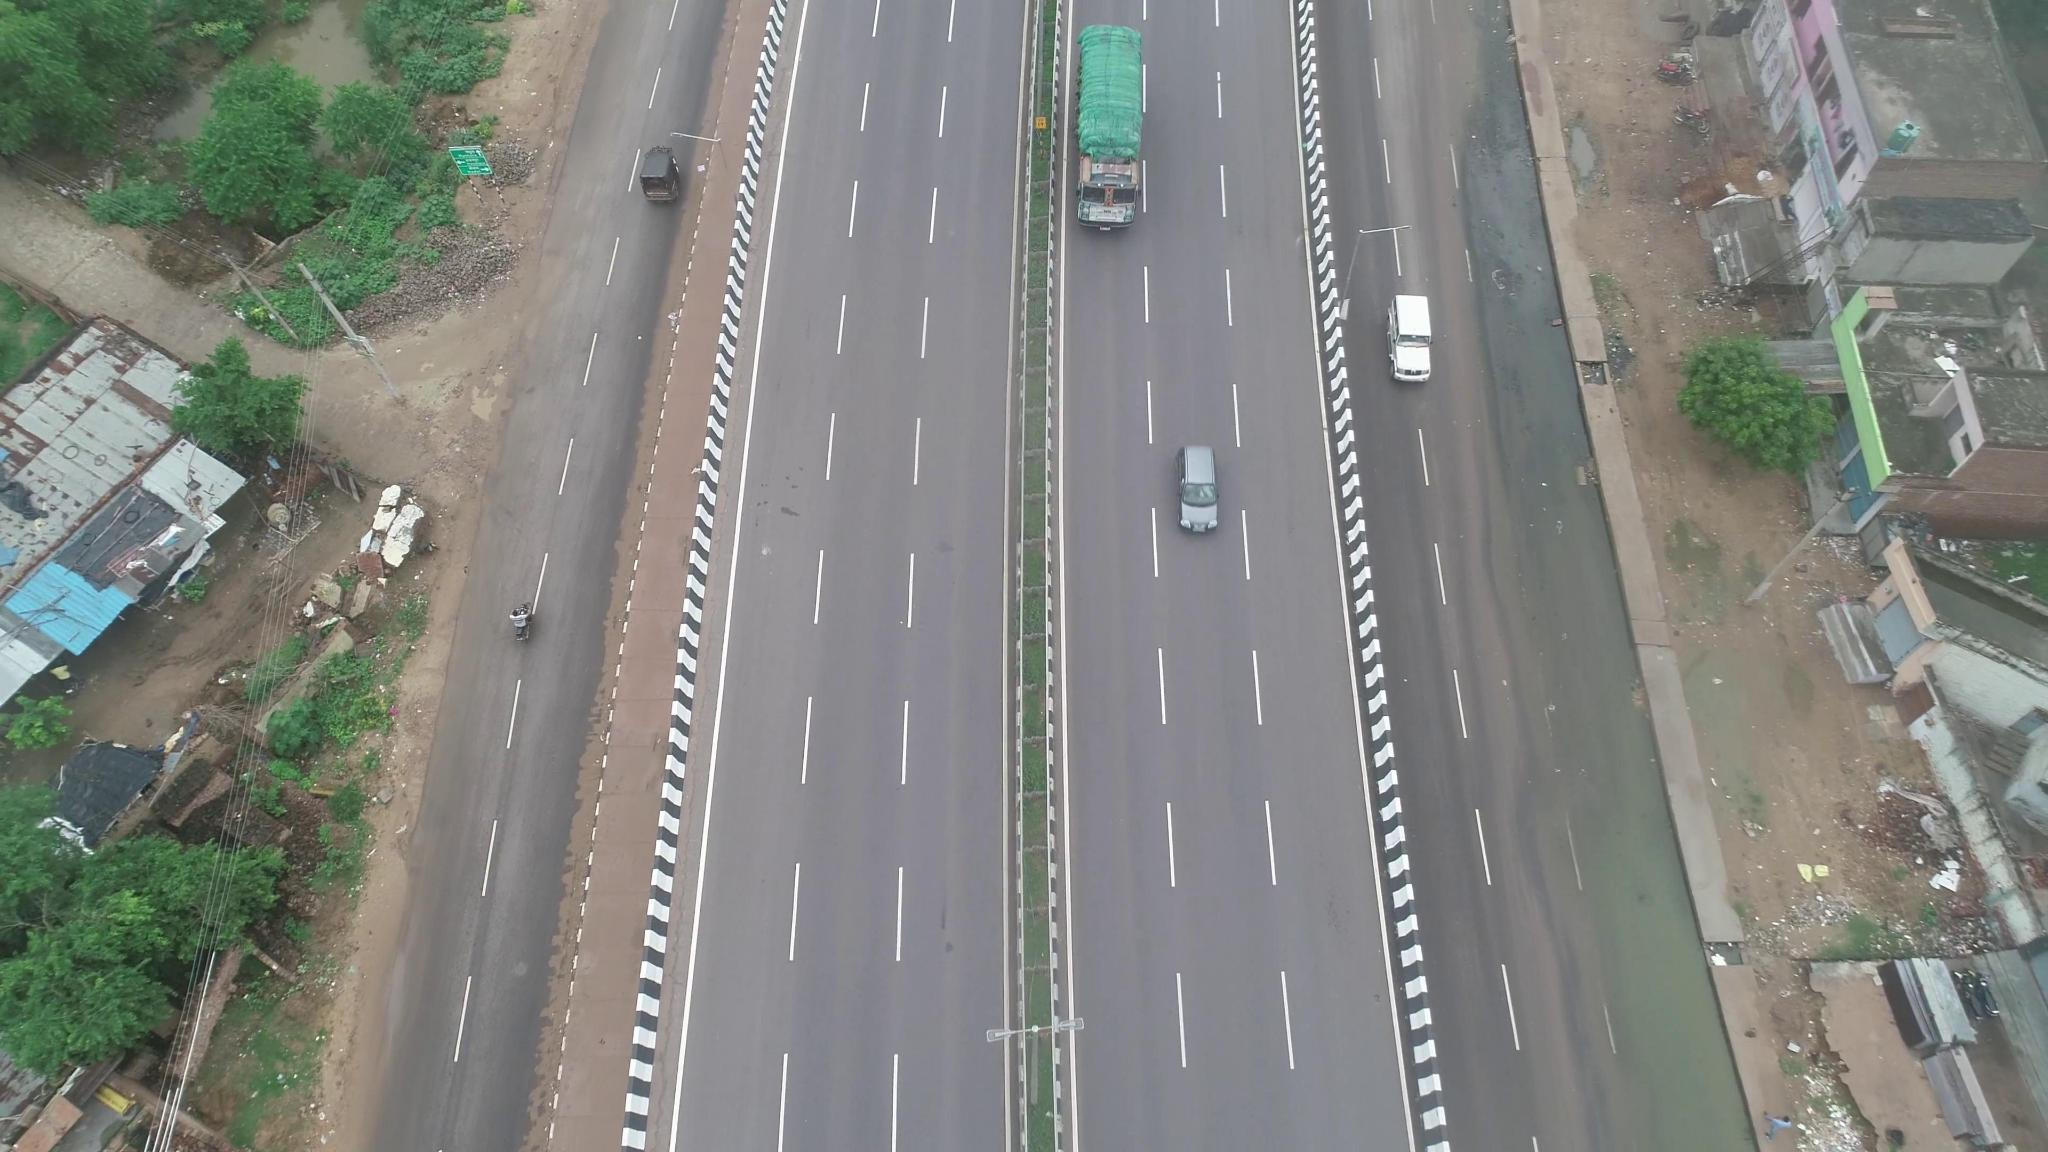Waterlogging: (1560, 717, 1744, 1139), (1490, 318, 1615, 663), (1414, 30, 1530, 283)
